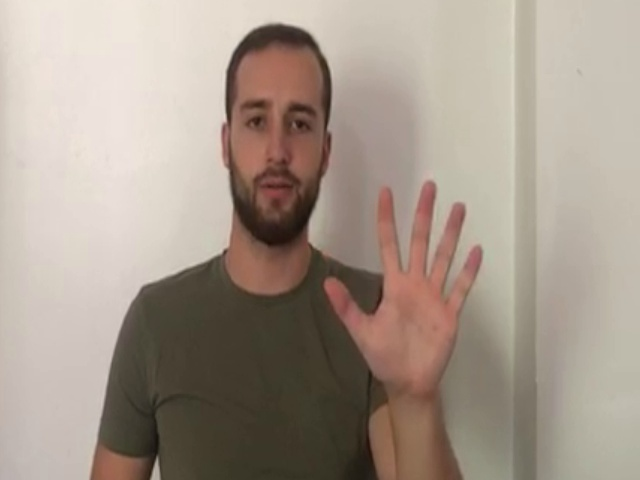Pet i Sedumnaeset: (320, 175, 489, 408)
